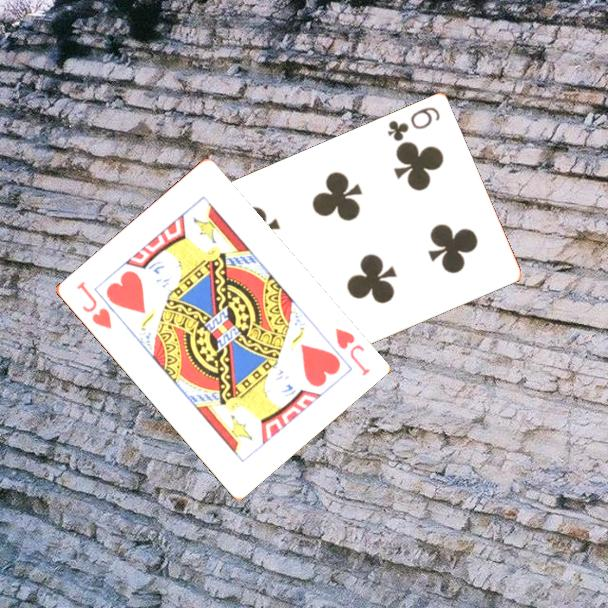c06: (383, 104, 443, 145)
h11: (72, 278, 115, 332), (331, 325, 373, 379)
